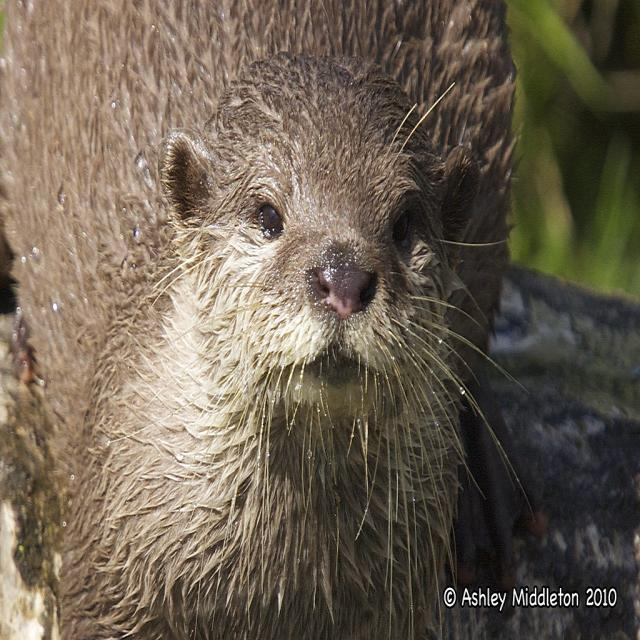otter: (74, 54, 507, 564)
